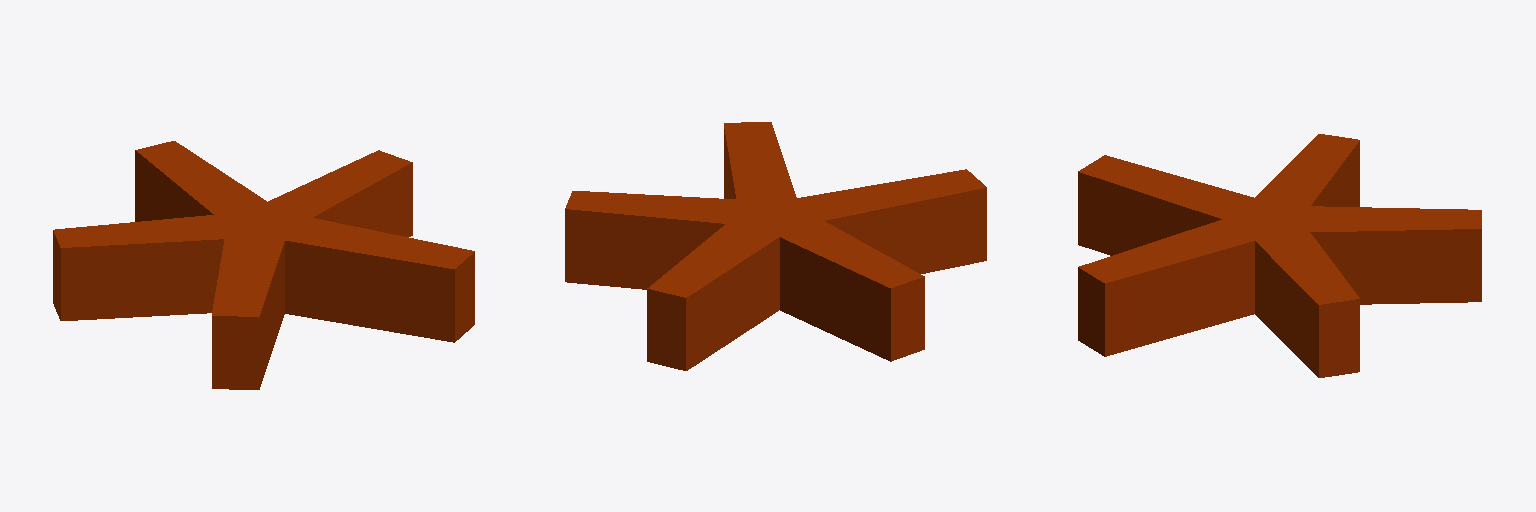
Rendered from star.obj.
The picture shows the model from 3 angles: view 1: azimuth 30°, elevation 25°; view 2: azimuth 150°, elevation 25°; view 3: azimuth 270°, elevation 25°; orthographic projection.
Parts seen in each view (by area): view 1: Text; view 2: Text; view 3: Text.
Boxes of the visible parts, box(x1,y1,x2,y2) form: Text: box(53, 141, 474, 389); Text: box(565, 122, 986, 370); Text: box(1078, 134, 1481, 377).
Bounding box in the file's own units: 1 × 0.2 × 1.